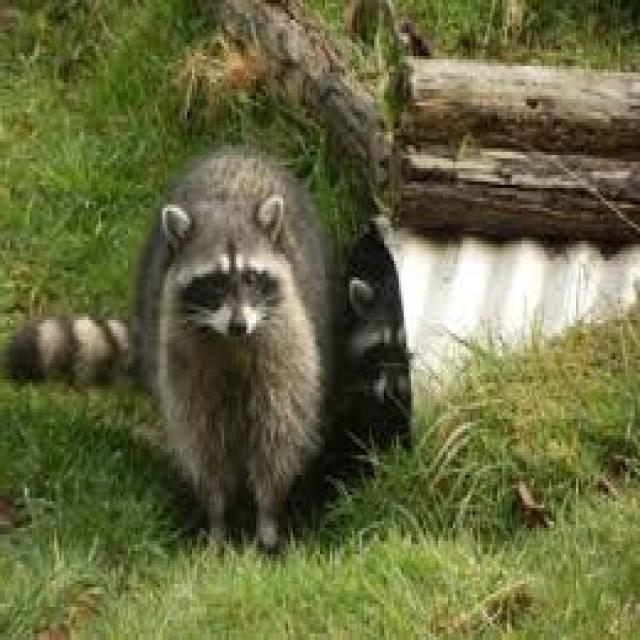raccoon: (7, 148, 332, 544), (345, 221, 411, 442)
